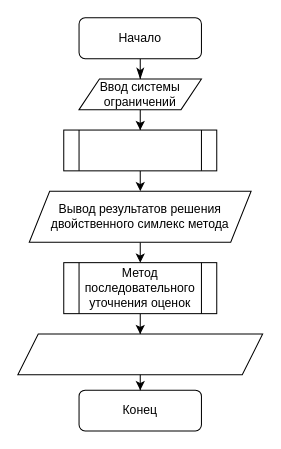
The diagram is 281 pixels wide and 449 high, and some of its shapes have lost their labels. The centre of each missing label's shape, as x and y in pixels:
"Вывод результатов решения метода последовательного уточнения оценки" belongs at (140,354).
"Двойственный симплекс метод" belongs at (140,150).
